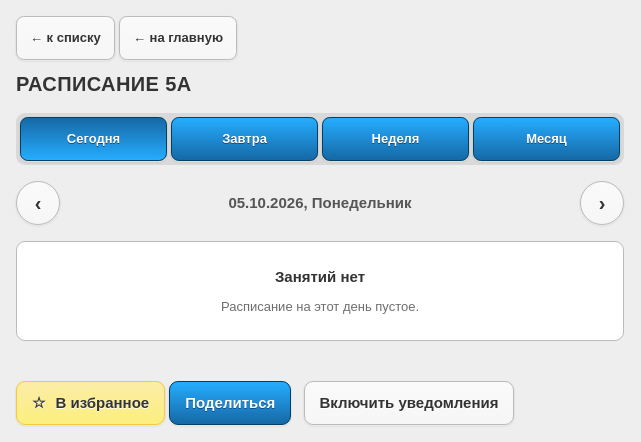
Test: Schedule screen › free day navigation › walks two days back from the baseline
What coordinates should you click on to do the following:
click the button named "Предыдущий день"
I would click on:
 (38, 203)
Its box is [16,181,60,225].
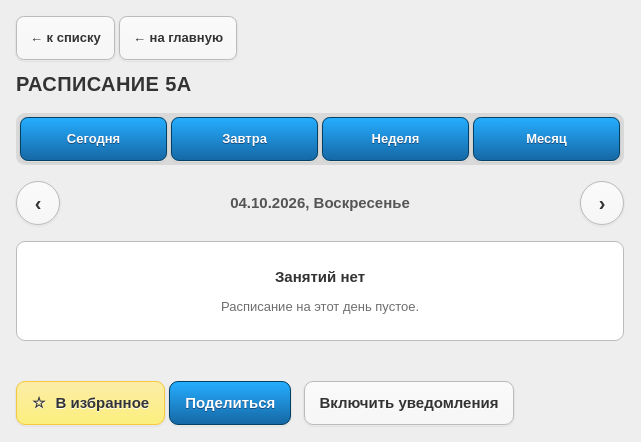
What coordinates should you click on to do the following:
click the button named "Предыдущий день"
I would click on:
 (38, 203)
Its box is [16,181,60,225].
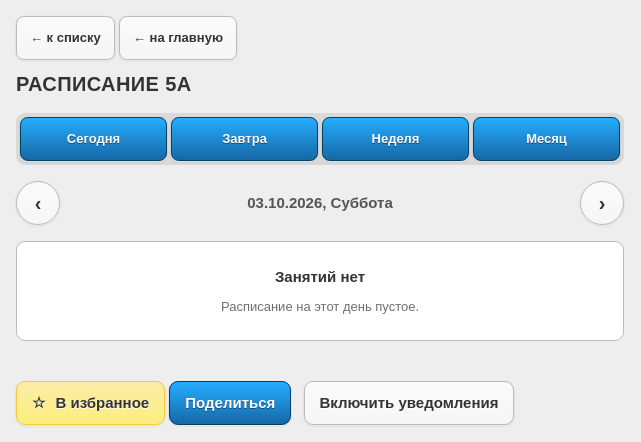
Check: the text "03.10.2026, Суббота" is shown, box [247,192,393,214]
